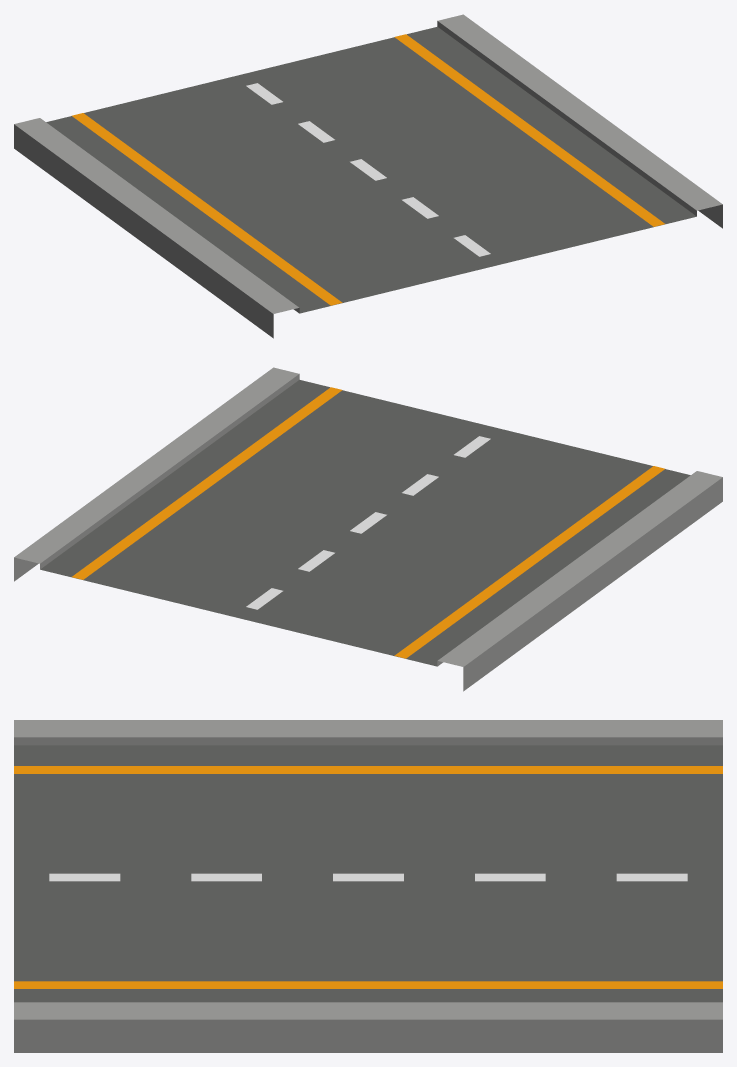
File: Road_B_1.fbx
3 renders of one model, top to bottom at view 1: azimuth 30°, elevation 25°; view 2: azimuth 150°, elevation 25°; view 3: azimuth 270°, elevation 25°, orthographic. The views are drawn at different scales.
Parts seen in each view (by area): view 1: Road_B_1; view 2: Road_B_1; view 3: Road_B_1.
Part boxes in pixels (x1,y1,x2,y2): Road_B_1: (14, 14, 722, 338); Road_B_1: (14, 367, 722, 691); Road_B_1: (14, 720, 722, 1052).
Bounding box in the file's own units: 800 × 41.48 × 800.
